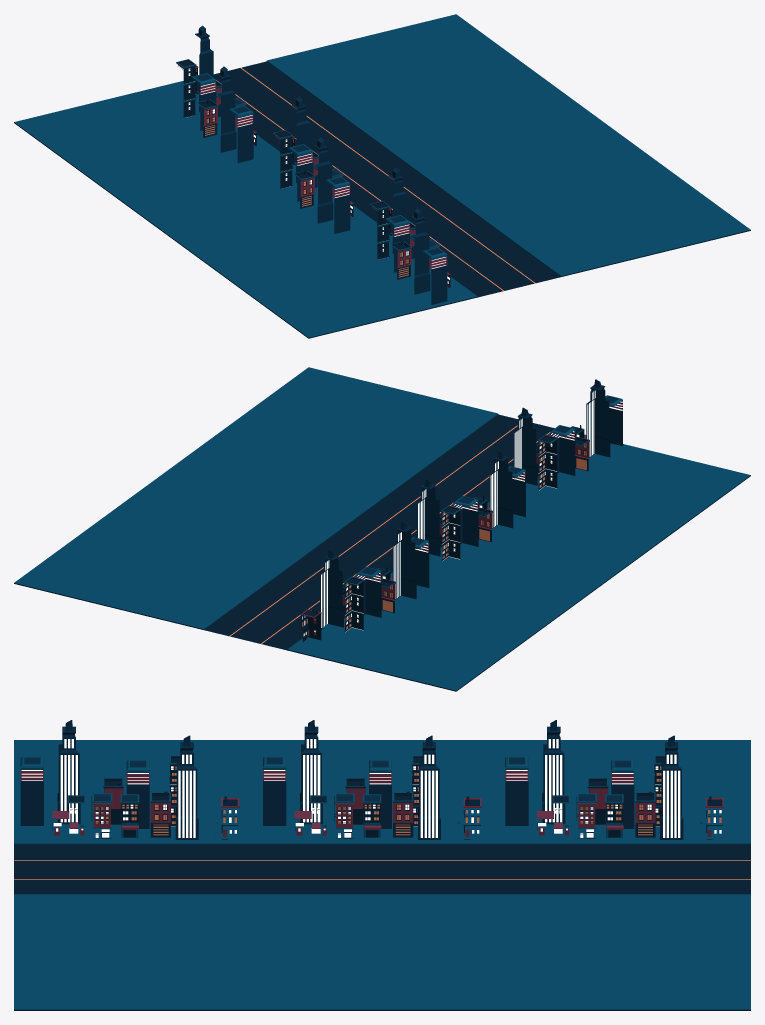
File: road-1.glb
The picture shows the model from 3 angles, top to bottom: view 1: azimuth 30°, elevation 25°; view 2: azimuth 150°, elevation 25°; view 3: azimuth 270°, elevation 25°; orthographic projection. The views are drawn at different scales.
Visible parts, largest first — view 1: route; view 2: route; view 3: route.
Part boxes in pixels (left/top/right/bottom): route: left=14, top=14, right=750, bottom=338; route: left=14, top=367, right=750, bottom=691; route: left=14, top=720, right=750, bottom=1010.
Size of the model in its own units: 74.83 by 13.14 by 86.33.
